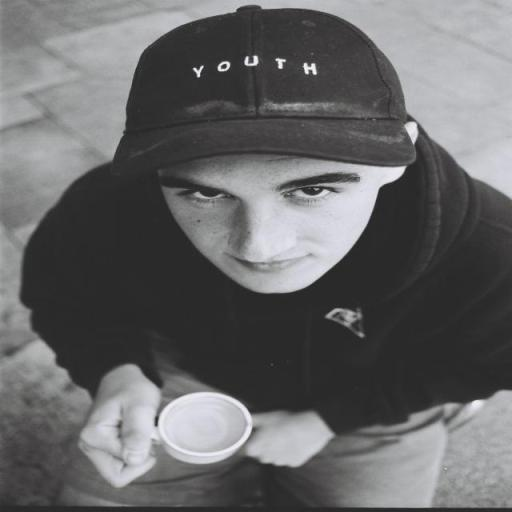Persona: (26, 6, 512, 512)
